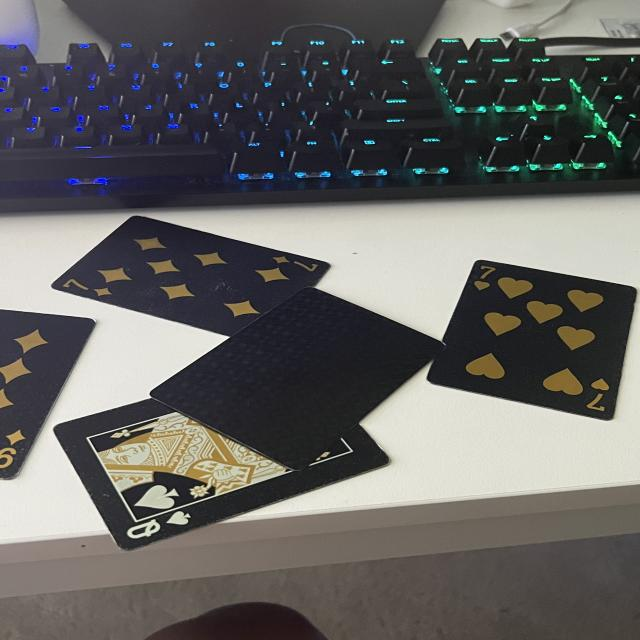7D: (55, 274, 113, 301), (270, 252, 320, 273)
7H: (587, 373, 618, 414), (473, 261, 498, 295)
9D: (0, 428, 35, 478)
BACK: (151, 284, 453, 472)
QS: (122, 510, 204, 540)
